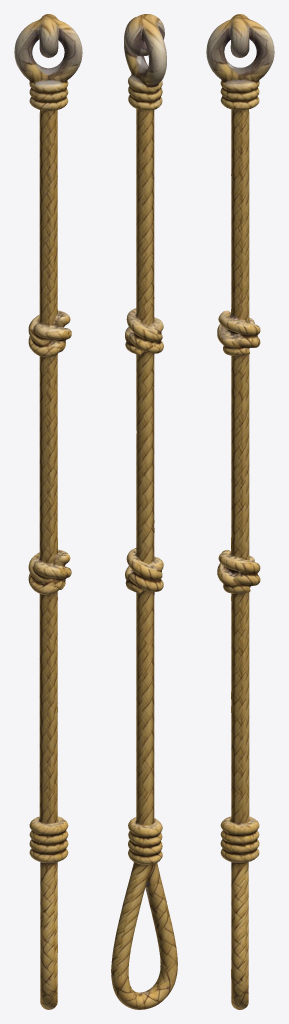
Rendered from Corde.glb.
3 renders of one model, left to right at view 1: azimuth 90°, elevation 25°; view 2: azimuth 210°, elevation 25°; view 3: azimuth 270°, elevation 25°, orthographic.
Size of the model in its own units: 0.1285 by 1.9 by 0.1185.
Materials: 1 (1 with a texture image).
